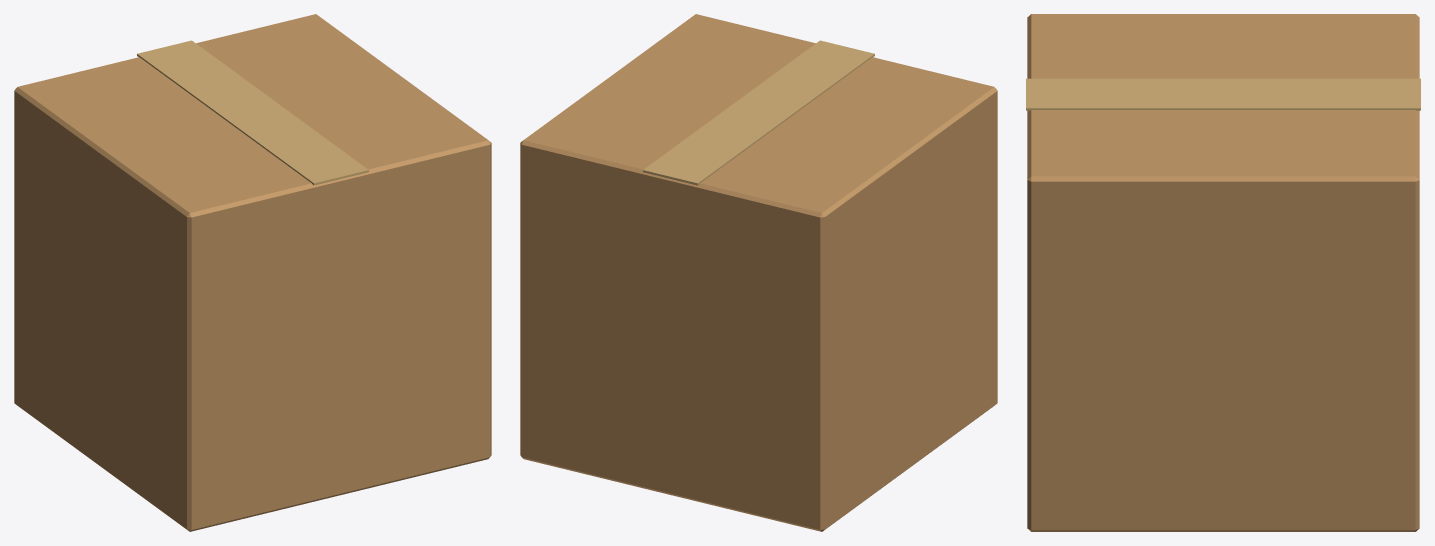
File: sm_box_m_closed.glb
3 views of the same model, side by side, from view 1: azimuth 30°, elevation 25°; view 2: azimuth 150°, elevation 25°; view 3: azimuth 270°, elevation 25° (orthographic). The views are drawn at different scales.
Visible parts, largest first — view 1: box_m_closed, box_m_closed_tape; view 2: box_m_closed, box_m_closed_tape; view 3: box_m_closed, box_m_closed_tape.
Boxes of the visible parts, left/top/right/bottom form: box_m_closed: left=14, top=14, right=491, bottom=531; box_m_closed_tape: left=137, top=40, right=368, bottom=185; box_m_closed: left=520, top=14, right=997, bottom=531; box_m_closed_tape: left=643, top=40, right=874, bottom=185; box_m_closed: left=1027, top=14, right=1419, bottom=531; box_m_closed_tape: left=1026, top=78, right=1420, bottom=110.
Size of what is drawn, in the model's own units: 0.6 by 0.603 by 0.604.
